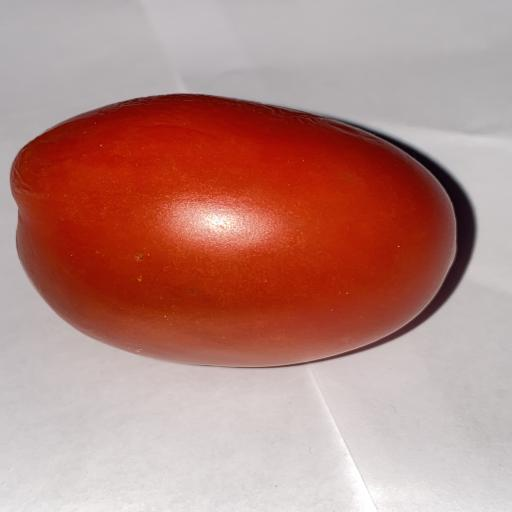ripe: (11, 94, 457, 367)
